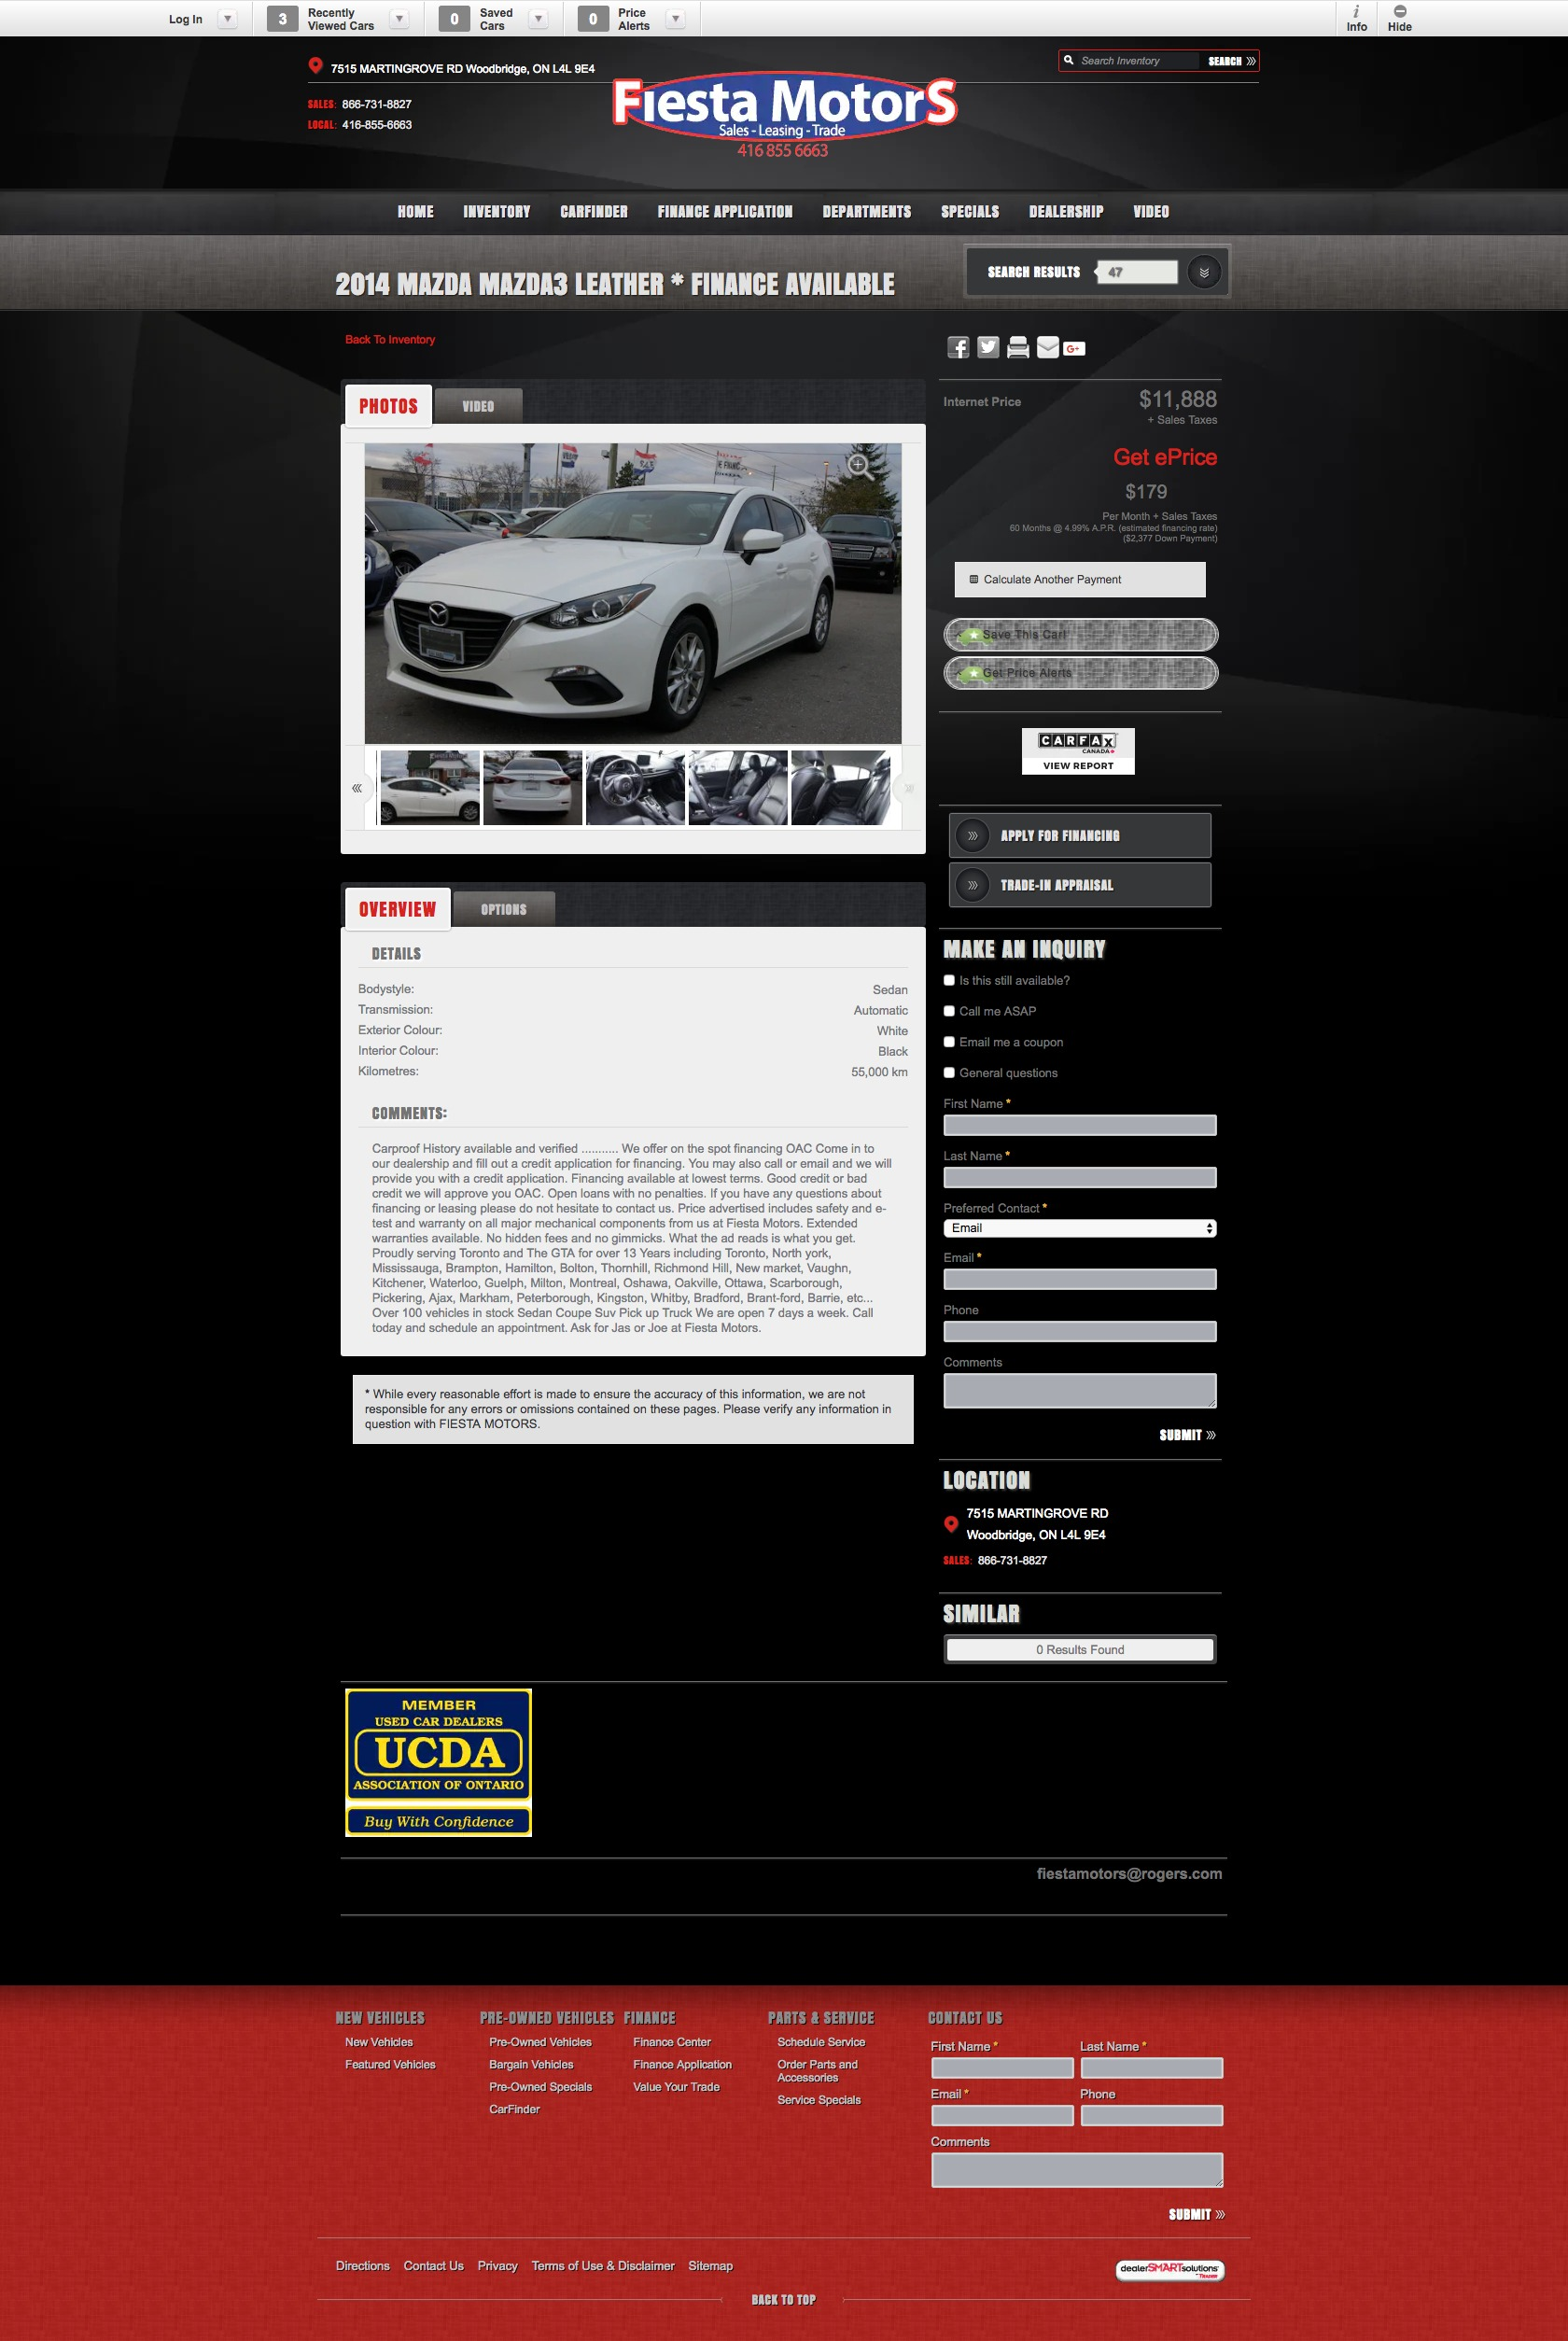car: (905, 784, 917, 796)
